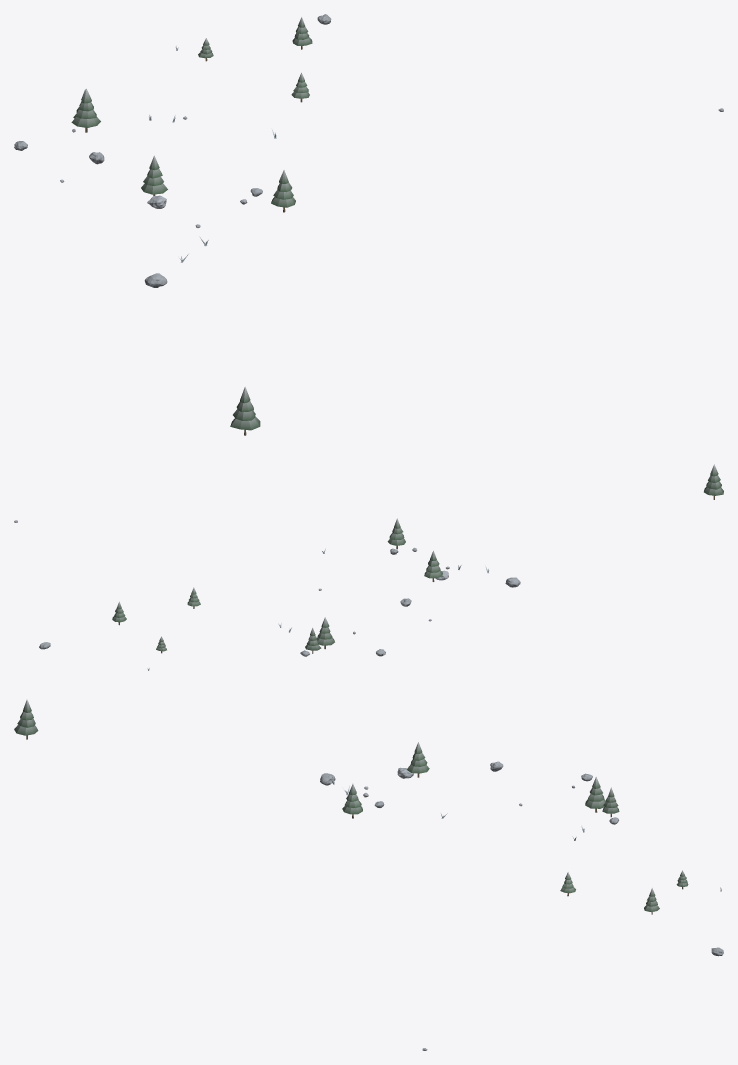
The model's file is frost_land_scatter_c17_11.glb.
3 views of the same model, one above another, from view 1: azimuth 30°, elevation 25°; view 2: azimuth 150°, elevation 25°; view 3: azimuth 270°, elevation 25° (orthographic). The views are drawn at different scales.
Parts seen in each view (by area): view 1: frost_land_scatter_c17_11; view 2: frost_land_scatter_c17_11; view 3: frost_land_scatter_c17_11.
Part boxes in pixels (x1=…): frost_land_scatter_c17_11: x1=14, y1=14, x2=723, y2=435; frost_land_scatter_c17_11: x1=14, y1=464, x2=723, y2=670; frost_land_scatter_c17_11: x1=14, y1=699, x2=723, y2=1050.
Size of the model in its own units: 248 by 31.72 by 253.
